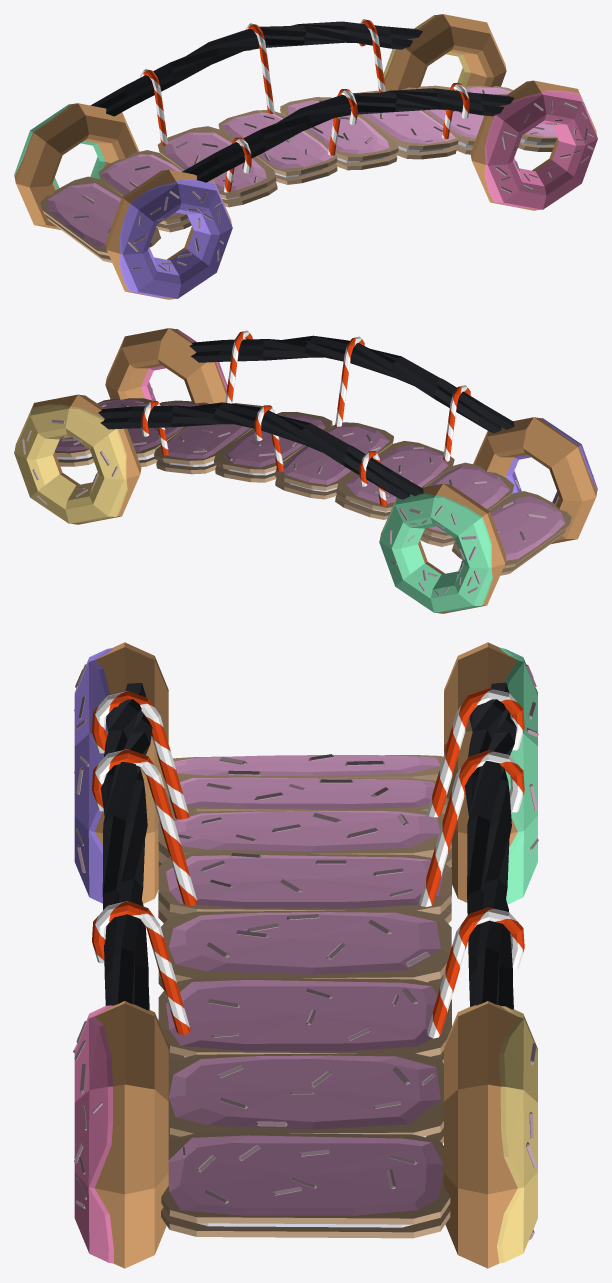
File: Puente.fbx
3 renders of one model, top to bottom at view 1: azimuth 30°, elevation 25°; view 2: azimuth 150°, elevation 25°; view 3: azimuth 270°, elevation 25°, orthographic. The views are drawn at different scales.
Parts seen in each view (by area): view 1: Candy_bridge; view 2: Candy_bridge; view 3: Candy_bridge.
Boxes of the visible parts, box(x1,y1,x2,y2) form: Candy_bridge: box(14, 14, 597, 299); Candy_bridge: box(14, 328, 597, 613); Candy_bridge: box(73, 642, 538, 1268).
Bounding box in the file's own units: 68.94 × 22.4 × 28.41.
Materials: 1 (1 with a texture image).
